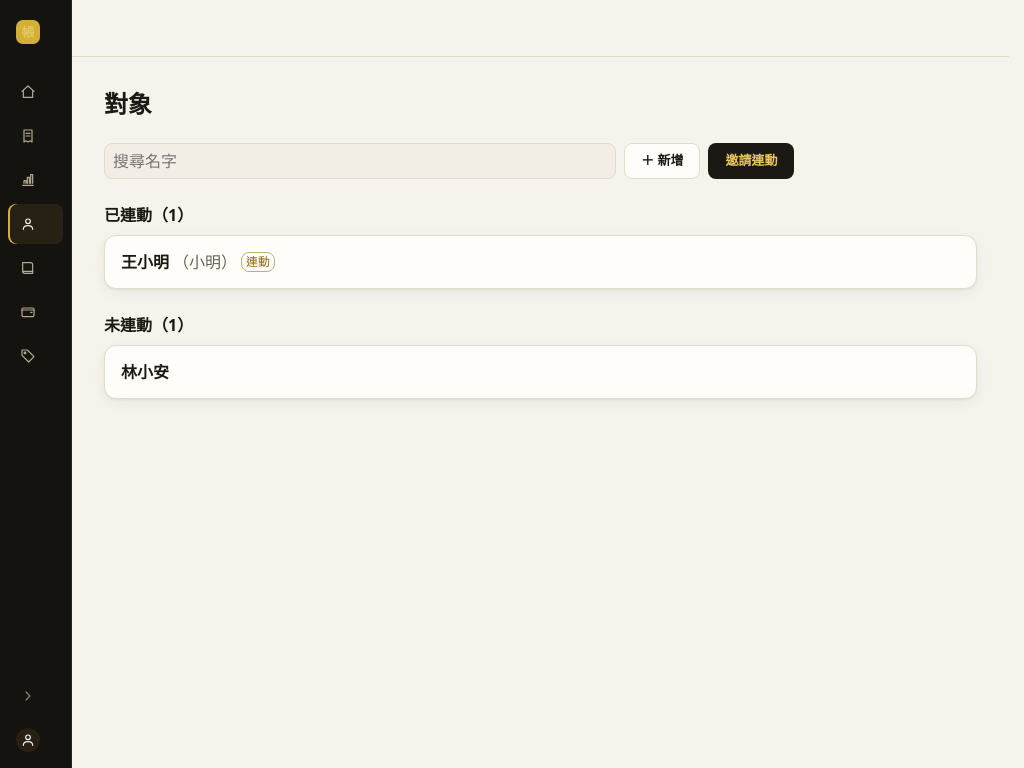
Scenario: CounterpartiesPage › opens a person even when no ledger exists, without any transaction form
Click the button "林小安": (145, 372) [105,346,976,398]
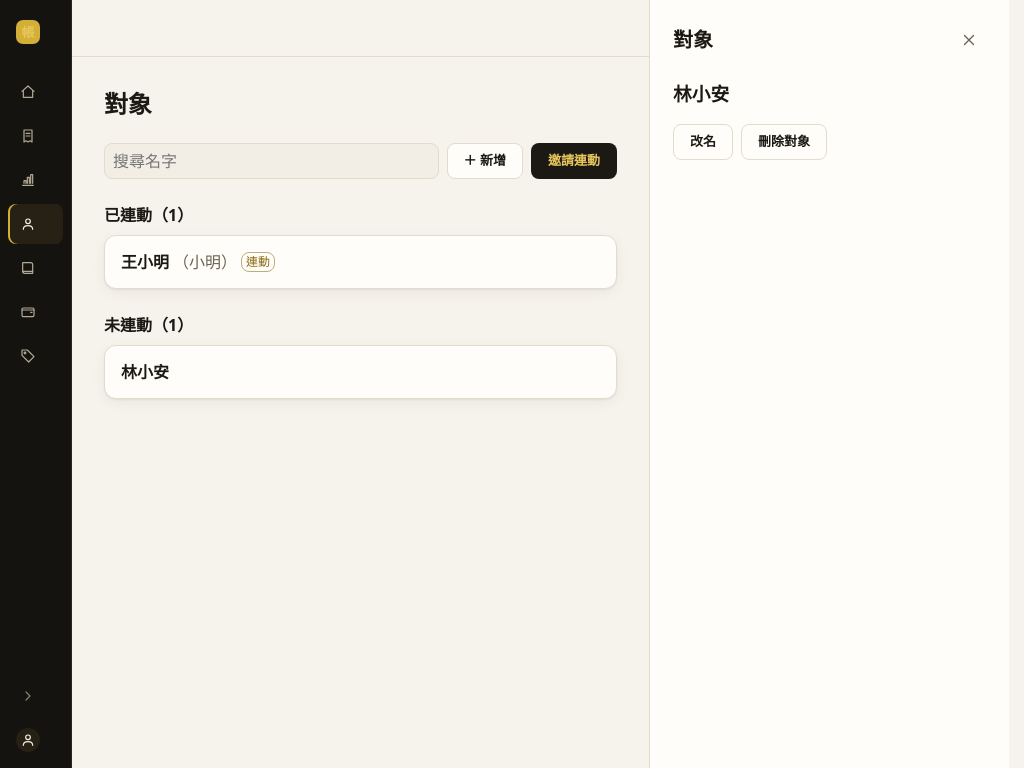
Result: the heading "林小安" is shown at [673,80,729,108]
